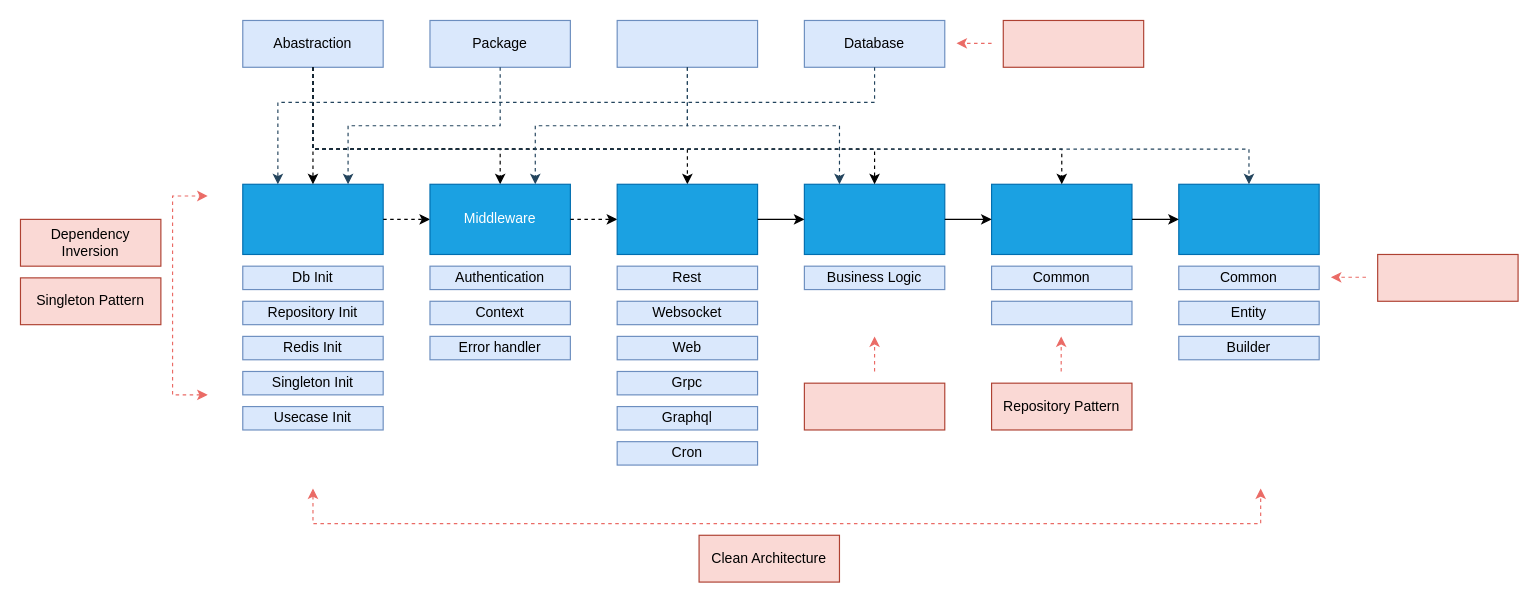
This 1539x603 diagram has some shape labels left out. Here are the shapes that lost their labels. From the top down, the centre of each, then its label:
the point at 687,43: Dto
the point at 1073,43: Liskov Subtitution
the point at 312,218: Factory
the point at 687,218: Handler
the point at 874,218: Usecase
the point at 1061,218: Repository
the point at 1248,218: Model
the point at 1447,277: Open Closed Principle
the point at 1061,312: Trx wrapper
the point at 874,406: Facade Pattern
